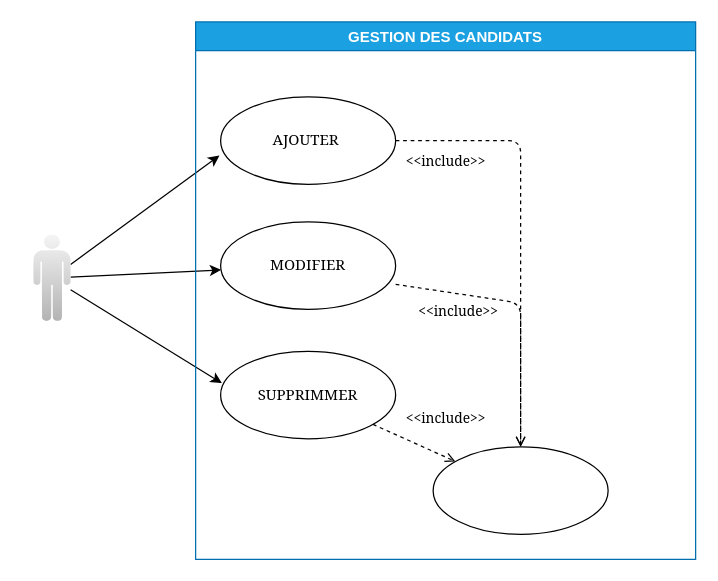
The diagram is 718 pixels wide and 581 high, and some of its shapes have lost their labels. Here are the shapes that lost their labels. From the top down, the centre of each, then its label:
(x=51, y=277): Gerant 1
(x=520, y=490): Connexion
